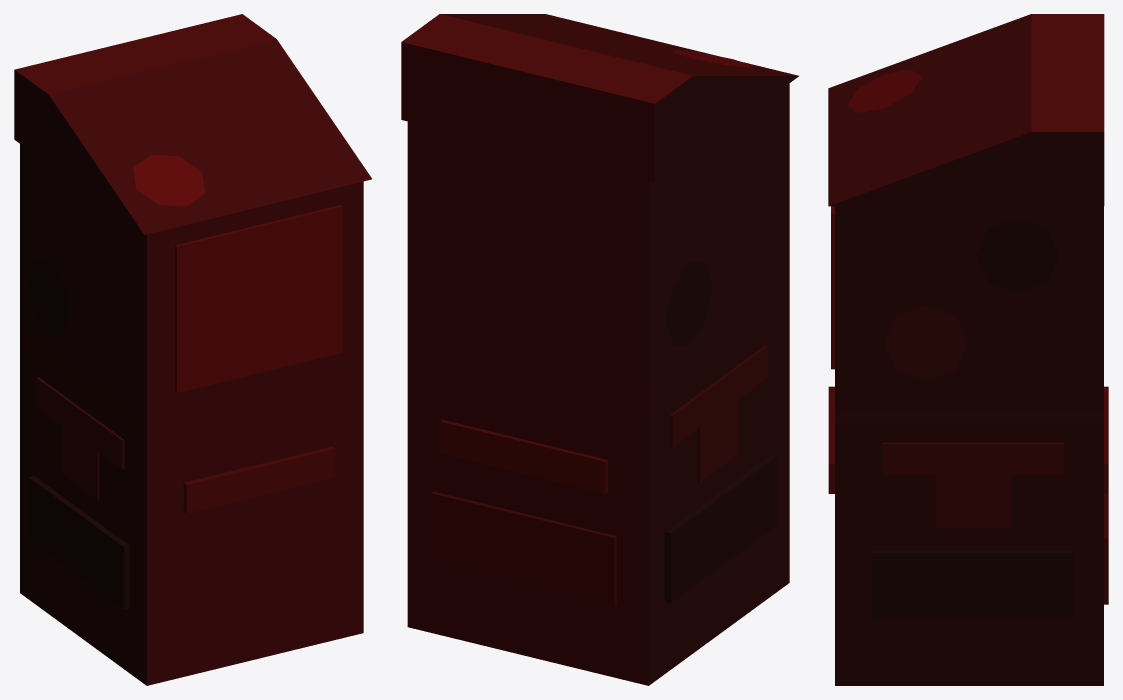
The model's file is NewspaperStand001.glb.
3 views of the same model, side by side, from view 1: azimuth 30°, elevation 25°; view 2: azimuth 150°, elevation 25°; view 3: azimuth 270°, elevation 25° (orthographic). The views are drawn at different scales.
Parts seen in each view (by area): view 1: NewspaperStand001; view 2: NewspaperStand001; view 3: NewspaperStand001.
Boxes of the visible parts, x1,y1,x2,y2 form: NewspaperStand001: (14,14,371,685); NewspaperStand001: (401,14,798,685); NewspaperStand001: (828,14,1108,685).
Size of the model in its own units: 1.87 by 4.1 by 1.87.
